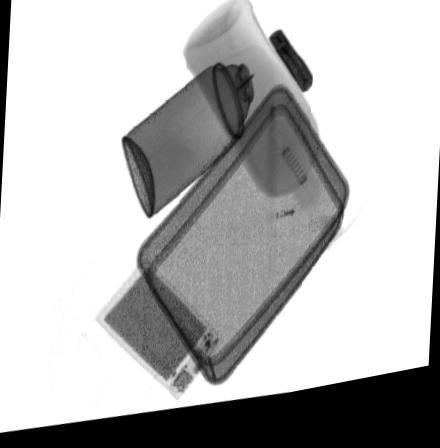Lighter: (268, 41, 314, 107)
Powerbank: (93, 262, 222, 407)
Sprayer: (122, 55, 279, 224)
